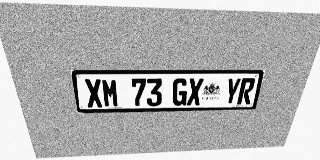3: (147, 78, 162, 106)
7: (130, 78, 146, 107)
G: (172, 78, 188, 106)
M: (101, 79, 119, 107)
R: (237, 78, 256, 104)
X: (84, 79, 103, 108), (186, 78, 204, 105)
Y: (223, 78, 242, 105)
